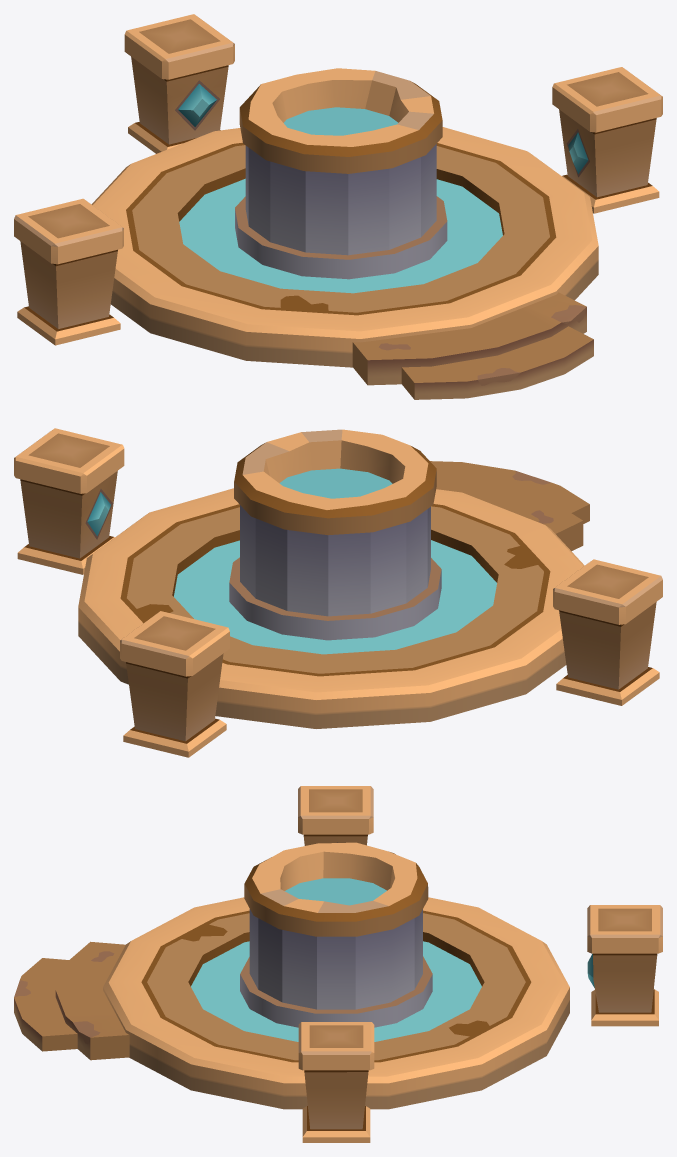
The model's file is Fountain .fbx.
3 views of the same model, one above another, from view 1: azimuth 30°, elevation 25°; view 2: azimuth 150°, elevation 25°; view 3: azimuth 270°, elevation 25° (orthographic). The views are drawn at different scales.
Visible parts, largest first — view 1: Cylinder.010; view 2: Cylinder.010; view 3: Cylinder.010.
Part boxes in pixels (bbox=[...]): Cylinder.010: bbox=[14, 14, 662, 399]; Cylinder.010: bbox=[14, 428, 662, 757]; Cylinder.010: bbox=[14, 786, 662, 1142].
Size of the model in its own units: 3.56 by 3.64 by 0.836.
